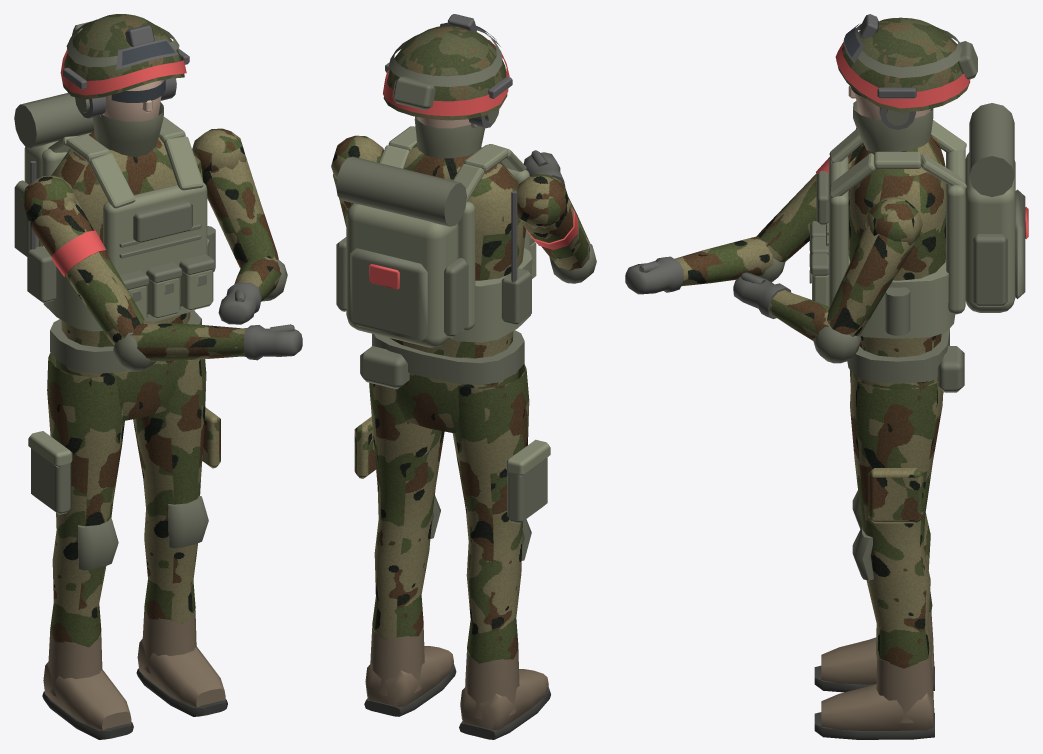
File: soldier.glb
3 views of the same model, side by side, from view 1: azimuth 30°, elevation 25°; view 2: azimuth 150°, elevation 25°; view 3: azimuth 270°, elevation 25° (orthographic).
Parts seen in each view (by area): view 1: body, legL, legR; view 2: body, legL, legR; view 3: body, legR, legL.
Boxes of the visible parts, <box> form: body: <box>14,14,302,420</box>; legL: <box>28,352,133,739</box>; legR: <box>133,359,227,716</box>; body: <box>331,14,596,433</box>; legL: <box>452,364,550,739</box>; legR: <box>354,383,456,716</box>; body: <box>625,14,1028,394</box>; legR: <box>814,372,943,739</box>; legL: <box>814,490,934,692</box>.
Bounding box in the file's own units: 0.7046 × 1.93 × 1.03.
Materials: 13 (2 with a texture image).
